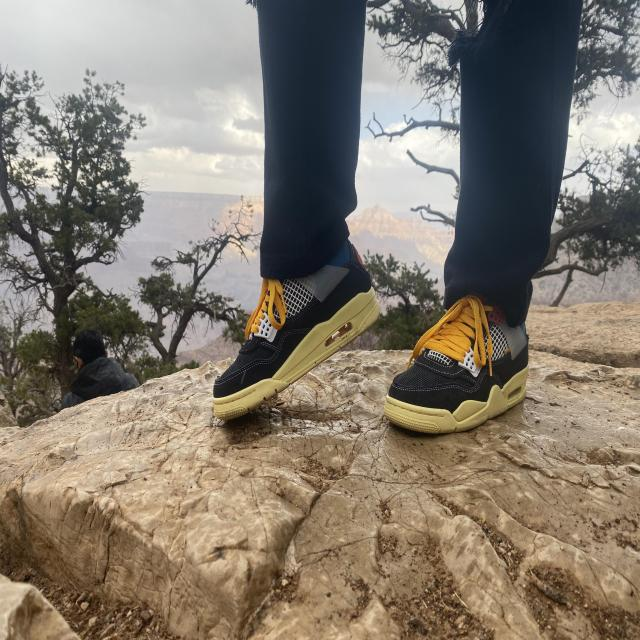shoe: (211, 237, 379, 426), (386, 291, 532, 436)
